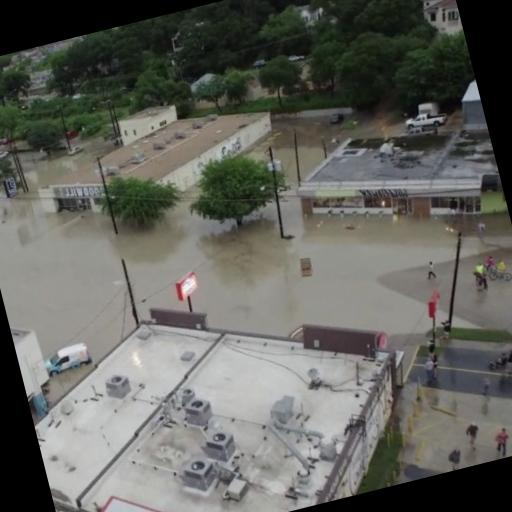flood: (0, 109, 512, 361)
house: (13, 250, 436, 512), (28, 96, 286, 225), (302, 106, 505, 245), (8, 316, 60, 426), (110, 97, 182, 144), (416, 0, 467, 53)
